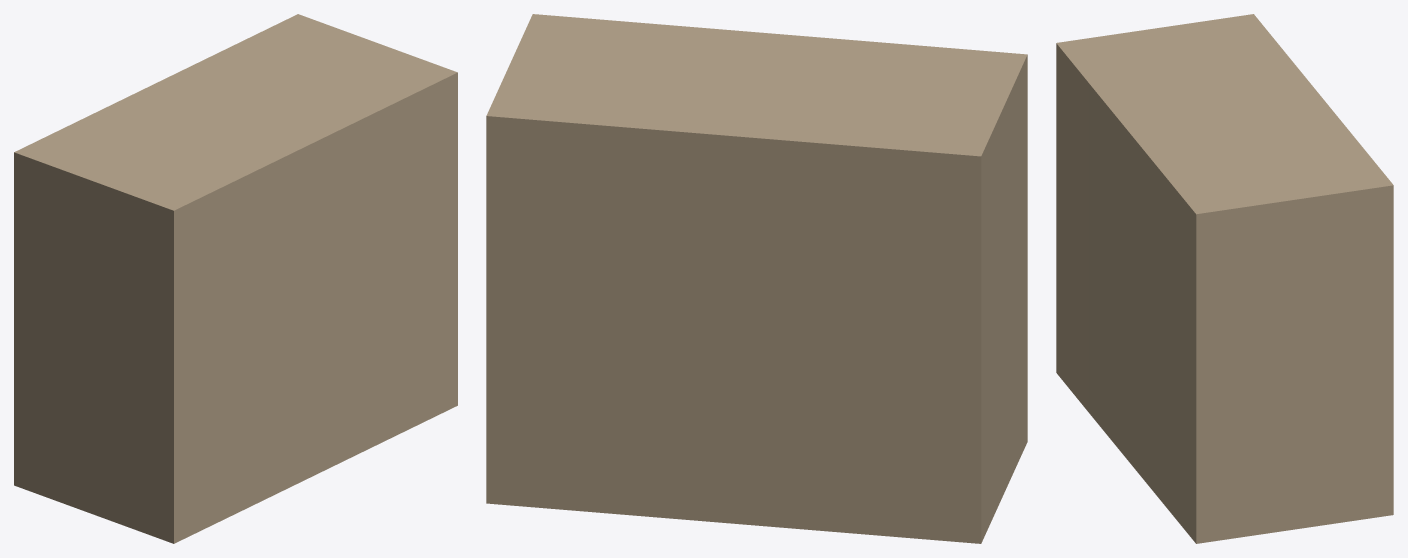
File: bld_100469504.dae
3 views of the same model, side by side, from view 1: azimuth 30°, elevation 25°; view 2: azimuth 150°, elevation 25°; view 3: azimuth 270°, elevation 25° (orthographic). The views are drawn at different scales.
Parts seen in each view (by area): view 1: bld_100469504; view 2: bld_100469504; view 3: bld_100469504.
Boxes of the visible parts, <box> form: bld_100469504: <box>14,14,457,543</box>; bld_100469504: <box>486,14,1027,543</box>; bld_100469504: <box>1056,14,1393,543</box>.
Size of the model in its own units: 10.42 by 7.42 by 8.
